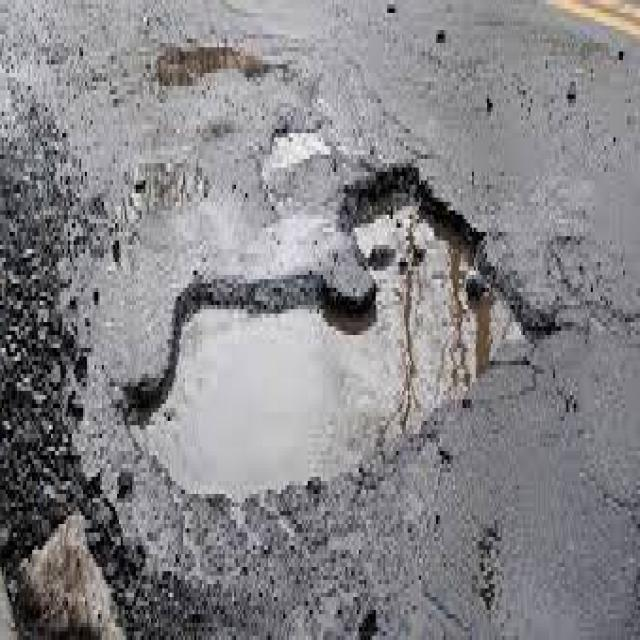Pothole: (145, 166, 519, 497)
